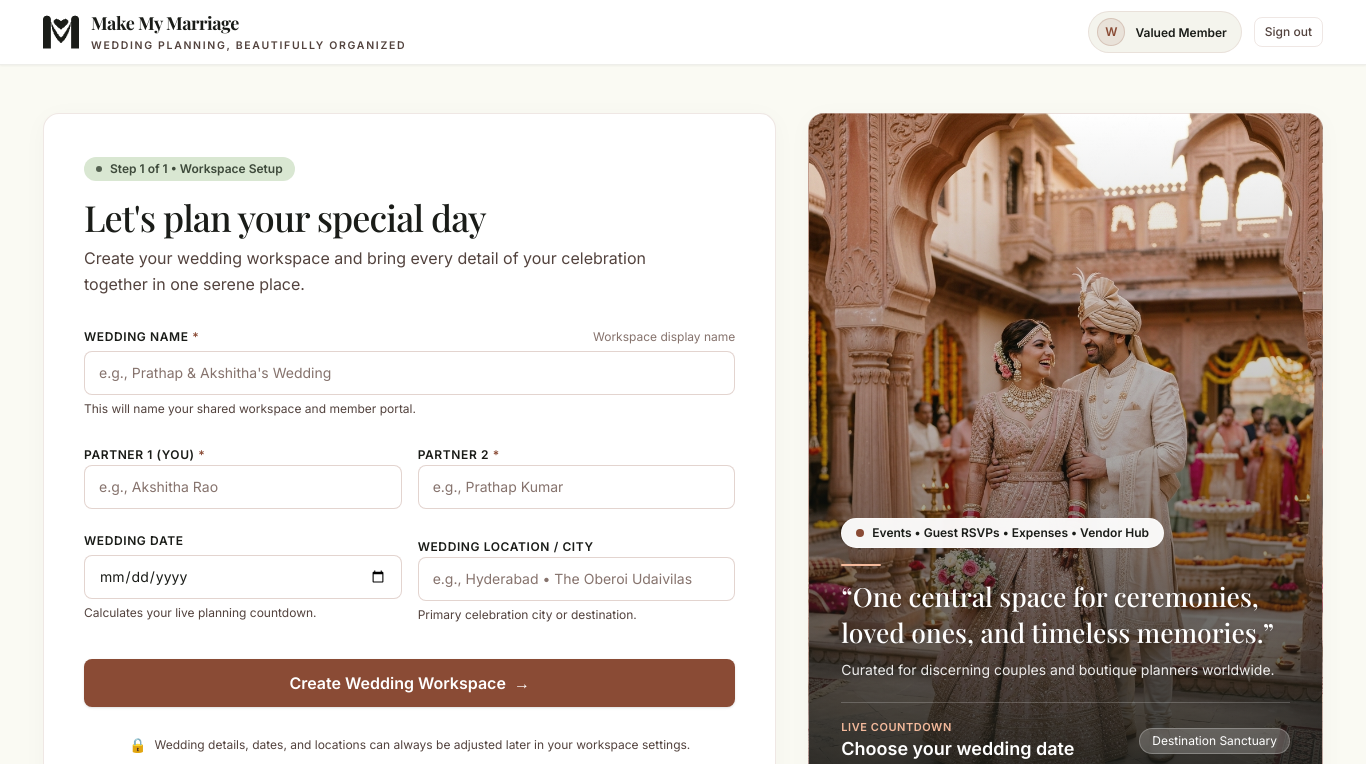
Test: Wedding Onboarding and Workspace Dashboard › WeddingSetupPage (Screen 1) › validates required fields when submitted with empty inputs
Step 1. Click the button "Create Wedding Workspace →" → point(410, 683), box [84,659,735,707]
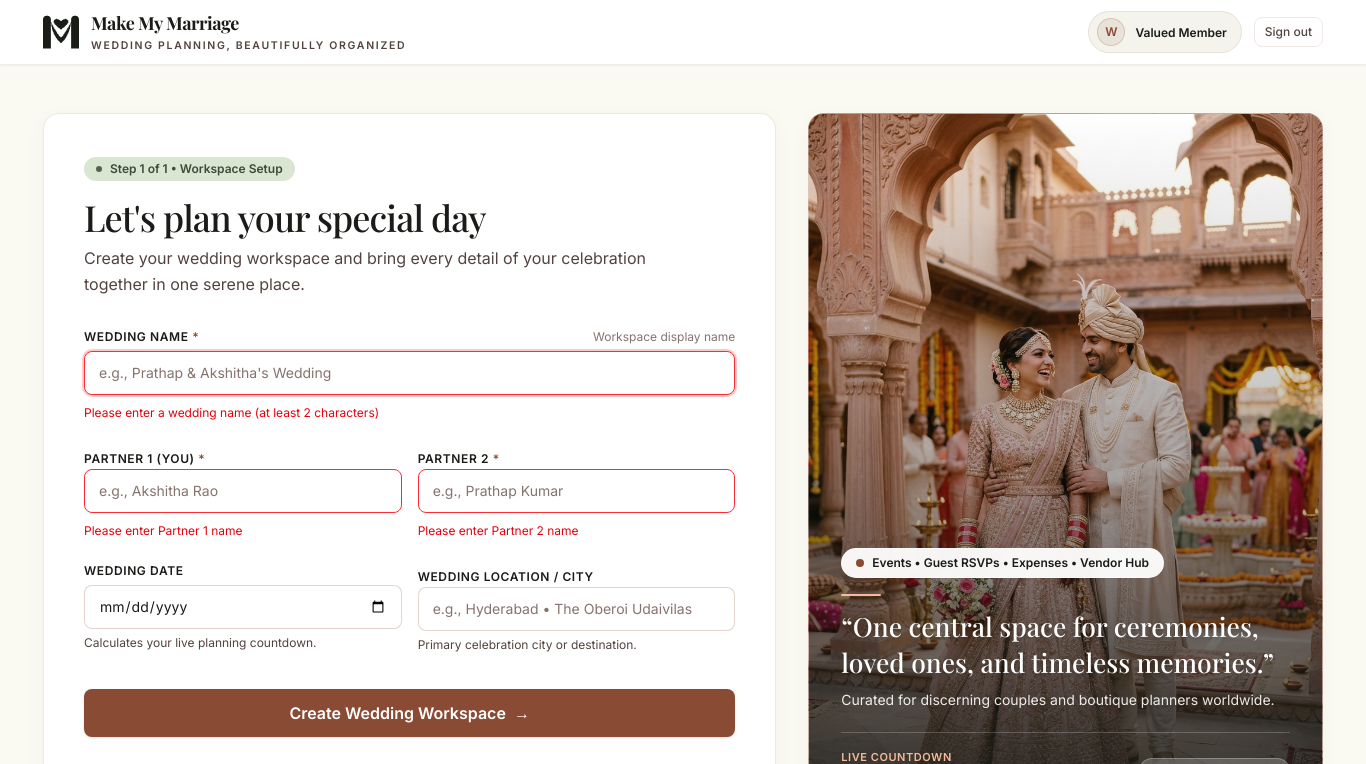
Check: the text "Please enter a wedding name (at least 2 characters)" is shown, box [84,405,379,420]
Check: the text "Please enter Partner 1 name" is shown, box [84,523,242,538]
Check: the text "Please enter Partner 2 name" is shown, box [418,523,579,538]
